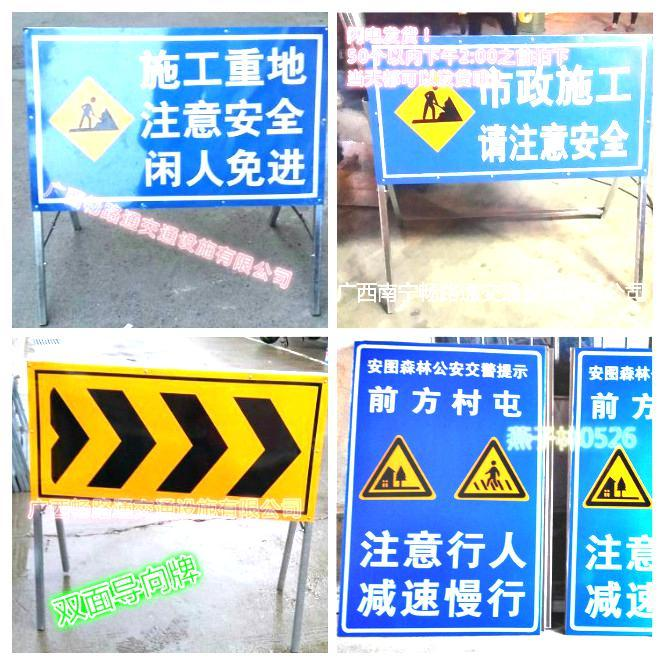sign: (351, 346, 548, 629), (21, 31, 320, 200), (25, 363, 315, 522), (371, 46, 644, 172), (576, 350, 648, 632)
